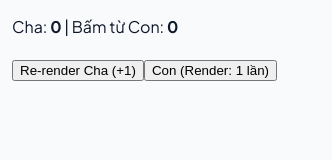
Test: 15 React Hooks + TypeScript Concise Demos › 06. useCallback: giữ nguyên render count của Con khi Cha re-render
Check: the button "Con (Render: 1 lần)" is shown, box [144,60,277,81]
Click the button "Re-render Cha (+1)": (78, 70) [12,60,144,81]
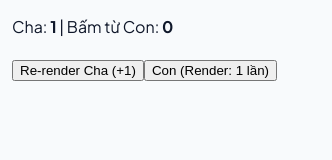
Click the button "Con (Render: 1 lần)": (210, 70) [144,60,277,81]
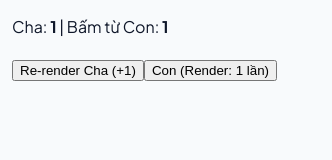
Check: the text "Cha: 1 | Bấm từ Con: 1" is shown, box [12,16,168,37]
